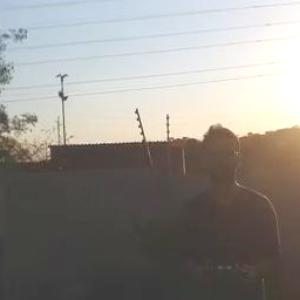follow: (172, 118, 290, 299)
